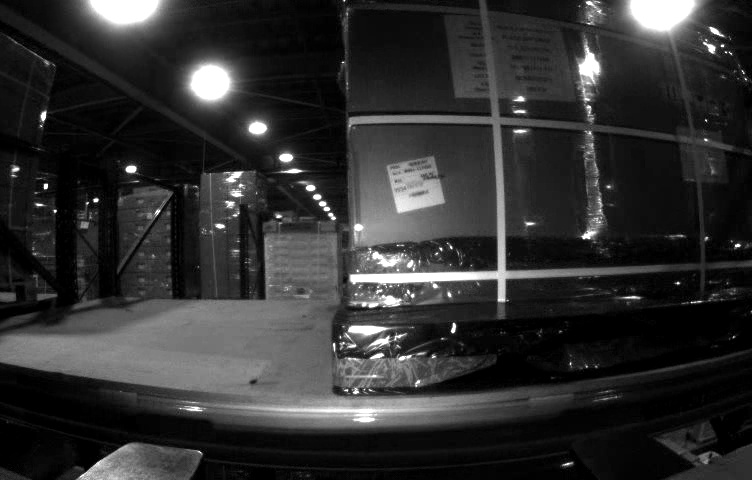True Barcode: (385, 153, 447, 214)
